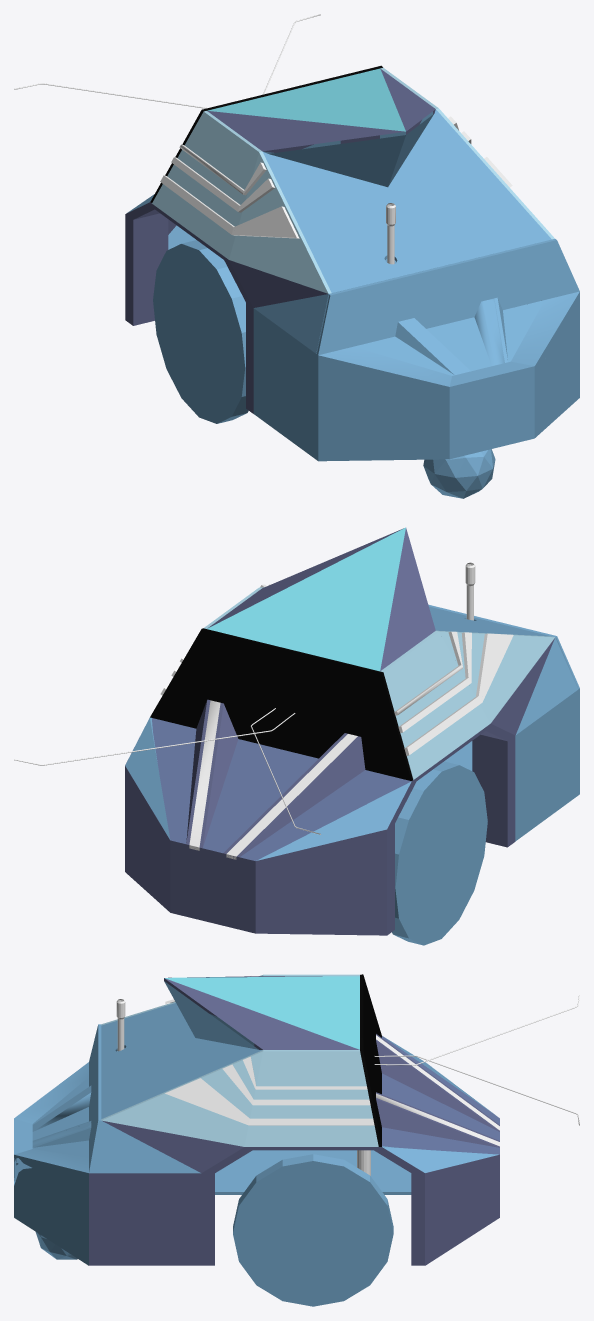
Rendered from car4.gltf.
The picture shows the model from 3 angles, top to bottom: view 1: azimuth 30°, elevation 25°; view 2: azimuth 150°, elevation 25°; view 3: azimuth 270°, elevation 25°; orthographic projection. The views are drawn at different scales.
Parts seen in each view (by area): view 1: car_paint; view 2: car_paint; view 3: car_paint.
Part boxes in pixels (bbox=[...]): car_paint: bbox=[14, 14, 579, 498]; car_paint: bbox=[14, 527, 579, 945]; car_paint: bbox=[14, 974, 579, 1306].
Size of the model in its own units: 0.1217 by 0.1226 by 0.2235.
